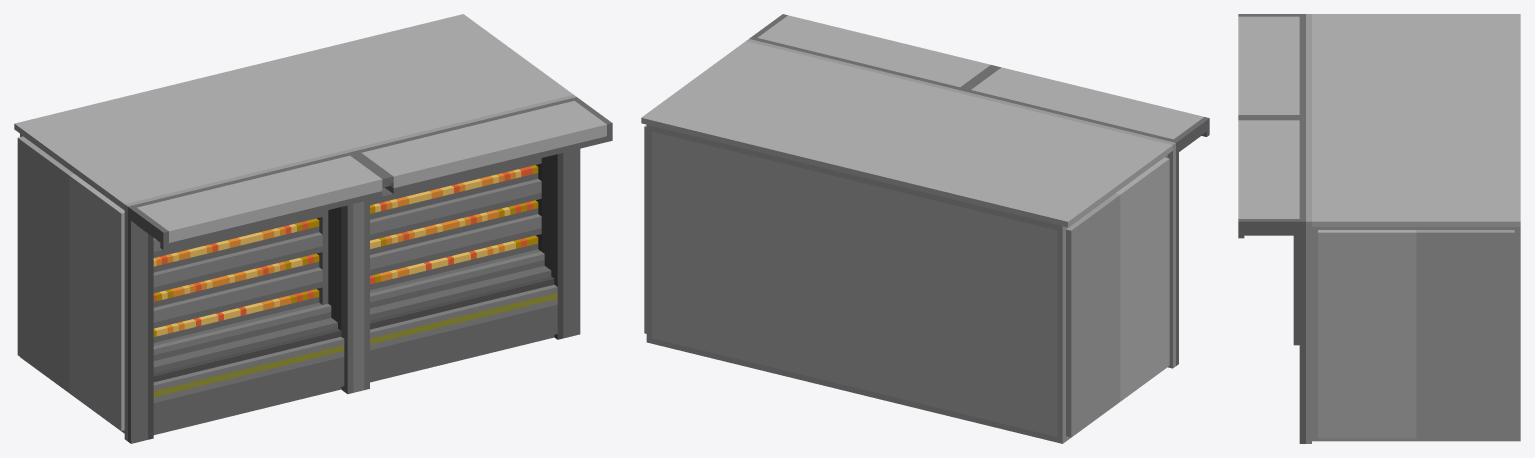
File: Robot Manufacture Machine.obj
The picture shows the model from 3 angles, left to right: view 1: azimuth 30°, elevation 25°; view 2: azimuth 150°, elevation 25°; view 3: azimuth 270°, elevation 25°; orthographic projection. The views are drawn at different scales.
Bounding box in the file's own units: 80 × 40 × 46.
Materials: 1 (1 with a texture image).
